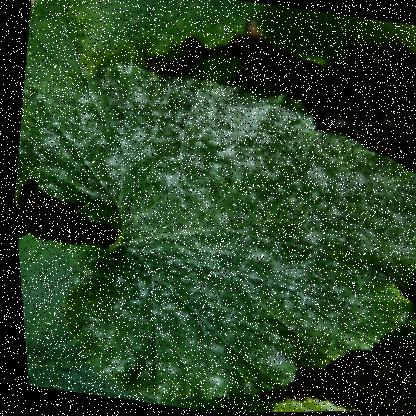PowderyMildew: (131, 125, 400, 310), (78, 229, 311, 395), (47, 63, 236, 219)
